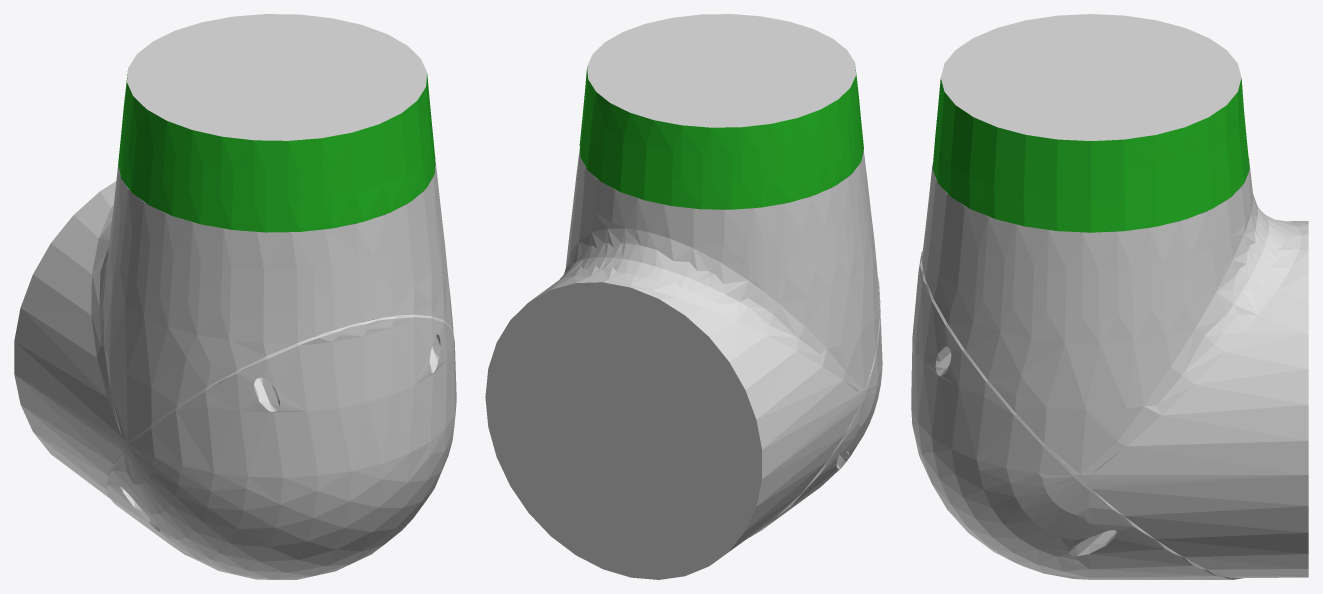
3 views of the same model, side by side, from view 1: azimuth 30°, elevation 25°; view 2: azimuth 150°, elevation 25°; view 3: azimuth 270°, elevation 25° (orthographic). The views are drawn at different scales.
Visible parts, largest first — view 1: node; view 2: node; view 3: node.
Boxes of the visible parts, x1,y1,x2,y2 form: node: (14,14,456,579); node: (485,14,882,579); node: (911,14,1308,579).
Bounding box in the file's own units: 184 × 276 × 205.
